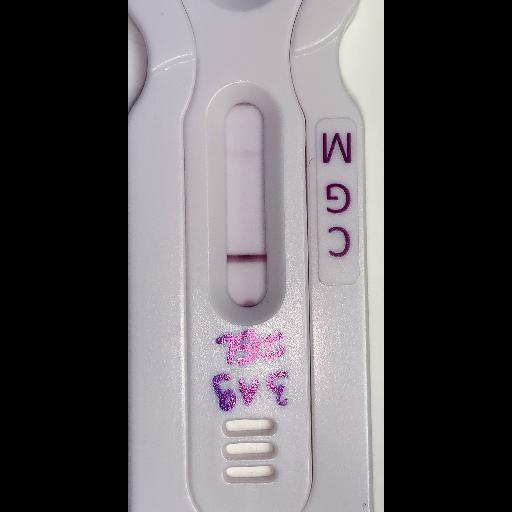Pos: (127, 0, 365, 511)
